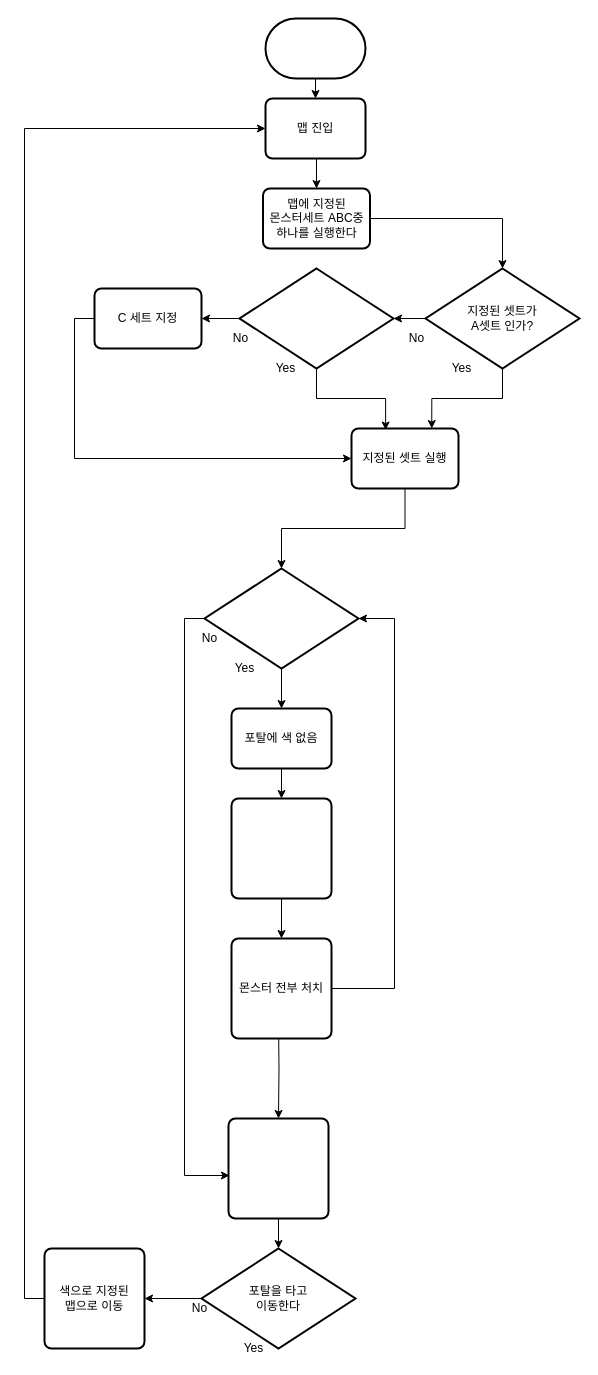
This 598x1375 diagram has some shape labels left out. The shapes that lost their labels are listed below. From the top down, each one's box as (x1, y1, x2, y2) in pixels, then its label:
(264, 17, 366, 79): 인게임 진입
(238, 267, 394, 369): 지정된 셋트가 B셋트 인가?
(203, 567, 359, 669): 실행할 웨이브가 있는가?
(230, 797, 332, 899): 몬스터 웨이브 실행 (몬스터 스폰)
(227, 1117, 329, 1219): 각 맵의 지정된 포탈에 색이 생기며, 포탈을 이용한다면, 색이 같은 색의 포탈로 텔레포트 할 수 있다.
